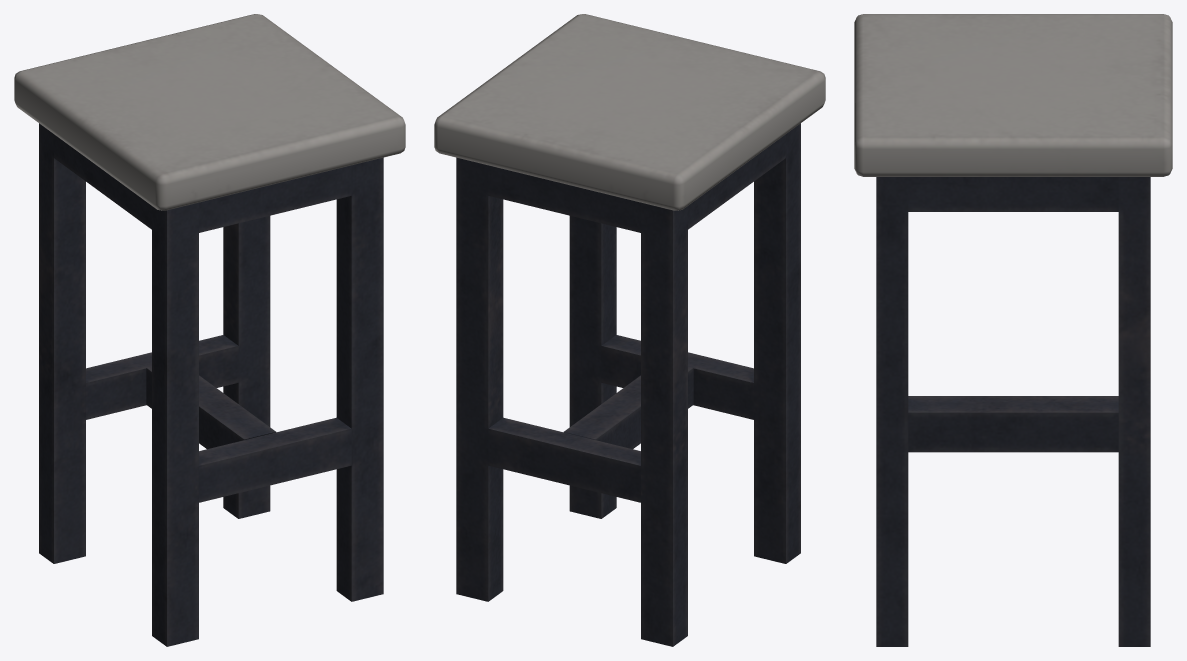
File: Stool.fbx
3 renders of one model, left to right at view 1: azimuth 30°, elevation 25°; view 2: azimuth 150°, elevation 25°; view 3: azimuth 270°, elevation 25°, orthographic. The views are drawn at different scales.
Parts seen in each view (by area): view 1: Stool; view 2: Stool; view 3: Stool.
Part boxes in pixels (x1=…): Stool: x1=14, y1=14, x2=405, y2=646; Stool: x1=434, y1=14, x2=825, y2=646; Stool: x1=854, y1=14, x2=1172, y2=646.
Bounding box in the file's own units: 36.31 × 66.68 × 37.44.
